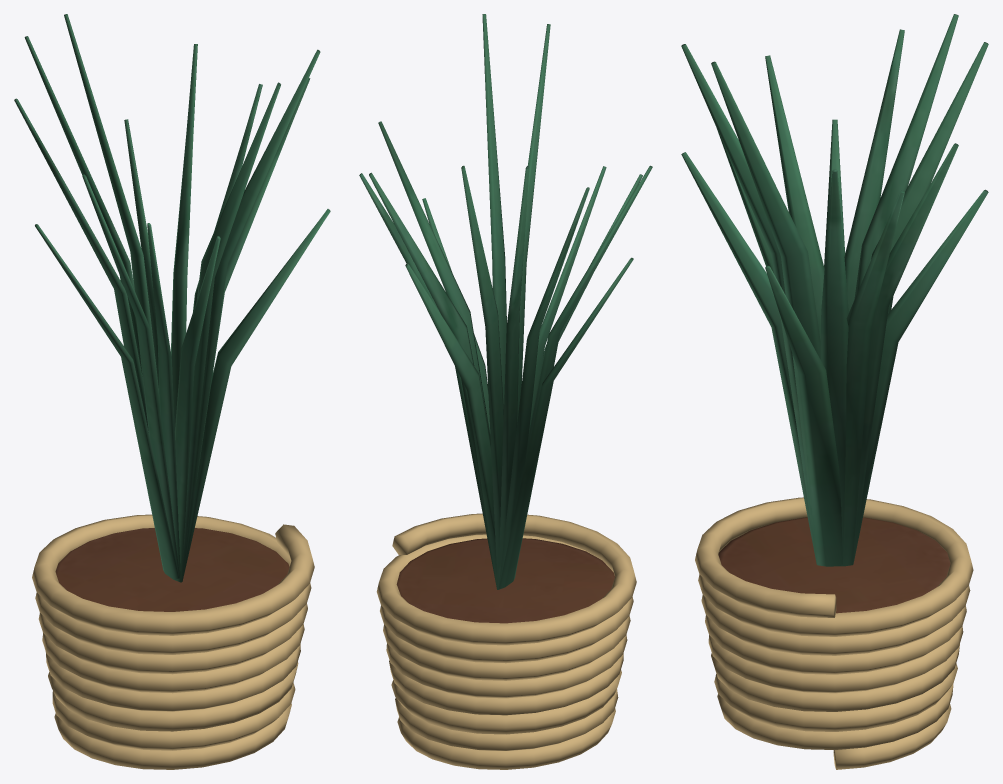
The model's file is plant_tall.glb.
3 renders of one model, left to right at view 1: azimuth 30°, elevation 25°; view 2: azimuth 150°, elevation 25°; view 3: azimuth 270°, elevation 25°, orthographic. The views are drawn at different scales.
Visible parts, largest first — view 1: plant_tall_hemp, plant_tall_felt_tree_tall2, plant_tall_felt_brown; view 2: plant_tall_hemp, plant_tall_felt_tree_tall2, plant_tall_felt_brown; view 3: plant_tall_felt_tree_tall2, plant_tall_hemp, plant_tall_felt_brown.
Boxes of the visible parts, left/top/right/bottom form: plant_tall_hemp: left=32, top=514, right=314, bottom=769; plant_tall_felt_tree_tall2: left=14, top=14, right=330, bottom=582; plant_tall_felt_brown: left=55, top=528, right=289, bottom=611; plant_tall_hemp: left=376, top=513, right=636, bottom=769; plant_tall_felt_tree_tall2: left=359, top=14, right=652, bottom=589; plant_tall_felt_brown: left=396, top=538, right=614, bottom=623; plant_tall_felt_tree_tall2: left=681, top=14, right=988, bottom=566; plant_tall_hemp: left=695, top=497, right=973, bottom=769; plant_tall_felt_brown: left=718, top=517, right=950, bottom=613.
Size of the model in its own units: 0.726 by 1.8 by 0.713.
Materials: 3 (2 with a texture image).
